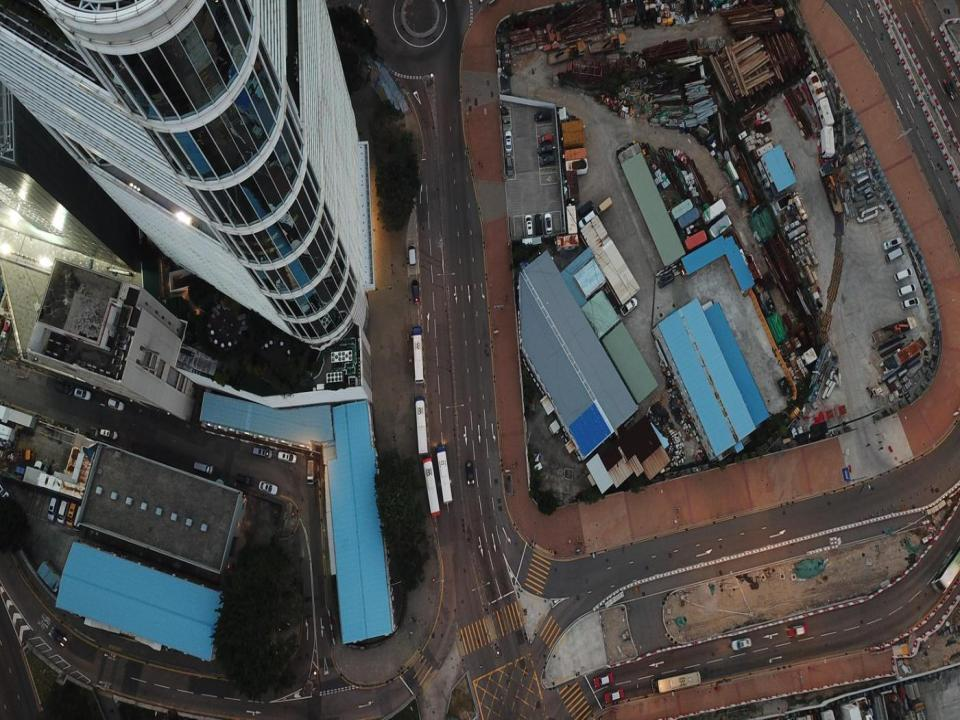bus: (932, 544, 959, 593), (422, 458, 441, 516), (651, 672, 701, 692), (436, 445, 452, 504), (415, 396, 428, 456), (412, 326, 425, 383)
car: (942, 76, 957, 100), (50, 627, 67, 646), (786, 625, 808, 639), (605, 688, 624, 703), (593, 674, 614, 686), (731, 638, 752, 650), (258, 482, 278, 494), (74, 388, 92, 401), (108, 398, 124, 412), (504, 130, 512, 154), (466, 462, 474, 484), (56, 384, 72, 394), (539, 134, 553, 144), (545, 214, 552, 234)
truck: (596, 196, 613, 216), (73, 506, 86, 530), (57, 500, 68, 524), (194, 462, 214, 474), (885, 248, 903, 261), (307, 460, 314, 485)
van: (620, 297, 638, 315), (578, 210, 595, 228), (894, 268, 913, 282), (882, 237, 902, 250), (577, 201, 594, 216), (47, 497, 57, 522), (277, 450, 296, 463), (252, 446, 271, 459), (410, 280, 420, 304), (898, 283, 916, 296), (235, 474, 254, 486), (407, 244, 416, 267), (100, 428, 118, 439), (67, 504, 76, 526), (901, 298, 919, 308), (506, 156, 514, 178), (539, 156, 555, 167), (524, 214, 532, 236), (535, 214, 543, 236), (534, 112, 550, 122), (538, 144, 554, 154)
